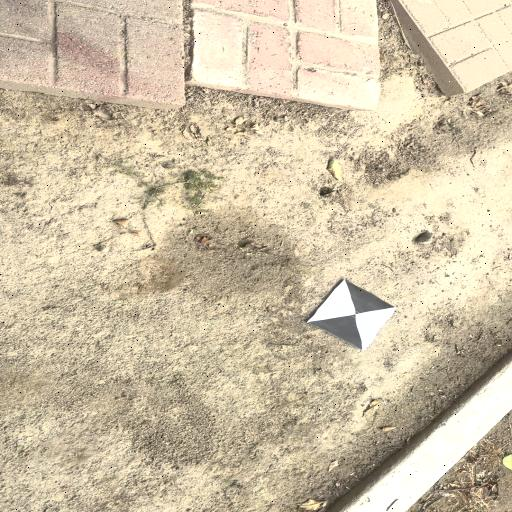target: (311, 280, 397, 350)
